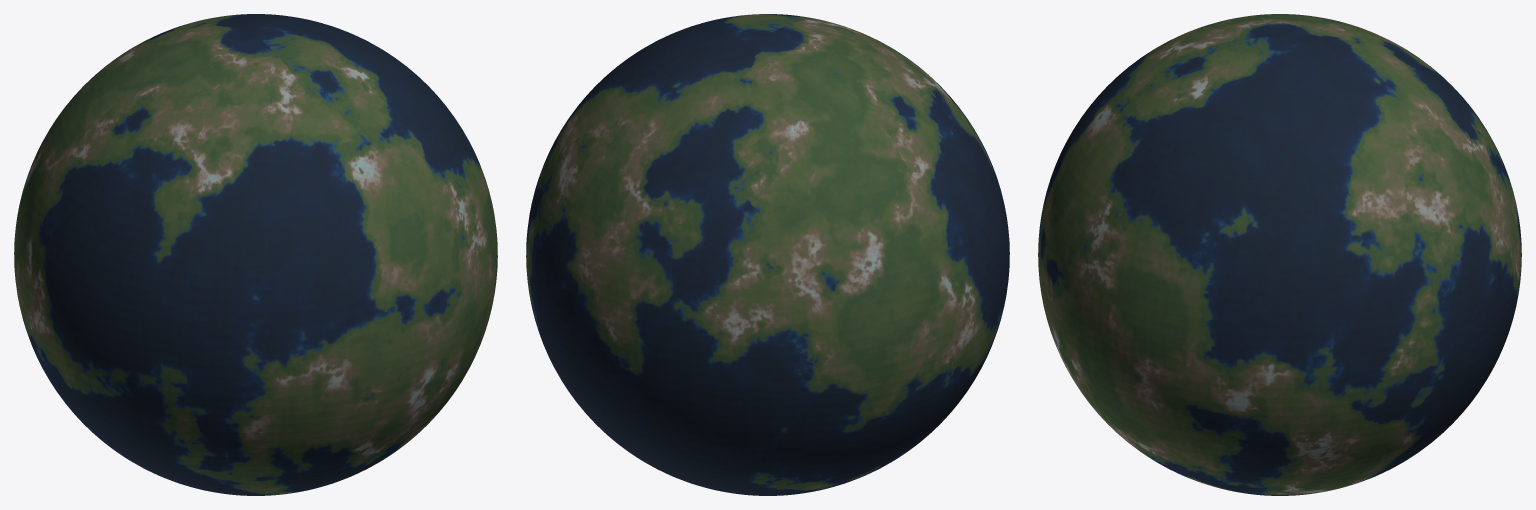
Rendered from newearth.obj.
The picture shows the model from 3 angles, left to right: view 1: azimuth 30°, elevation 25°; view 2: azimuth 150°, elevation 25°; view 3: azimuth 270°, elevation 25°; orthographic projection.
Visible parts, largest first — view 1: Sphere.002; view 2: Sphere.002; view 3: Sphere.002.
Part boxes in pixels (bbox=[...]): Sphere.002: bbox=[14, 14, 497, 495]; Sphere.002: bbox=[526, 14, 1009, 495]; Sphere.002: bbox=[1038, 14, 1521, 495].
Bounding box in the file's own units: 2 × 2 × 2.
Materials: 1 (1 with a texture image).
